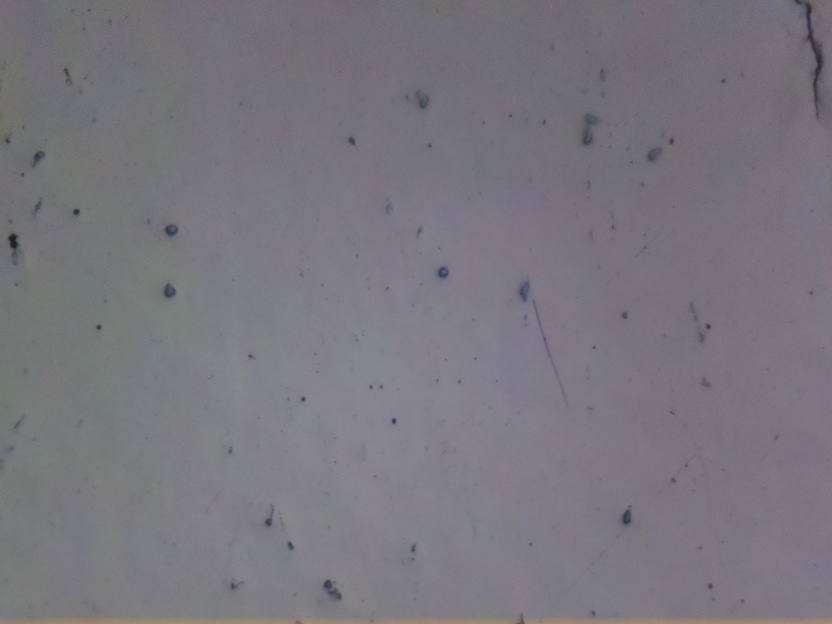crack: (793, 0, 831, 122)
